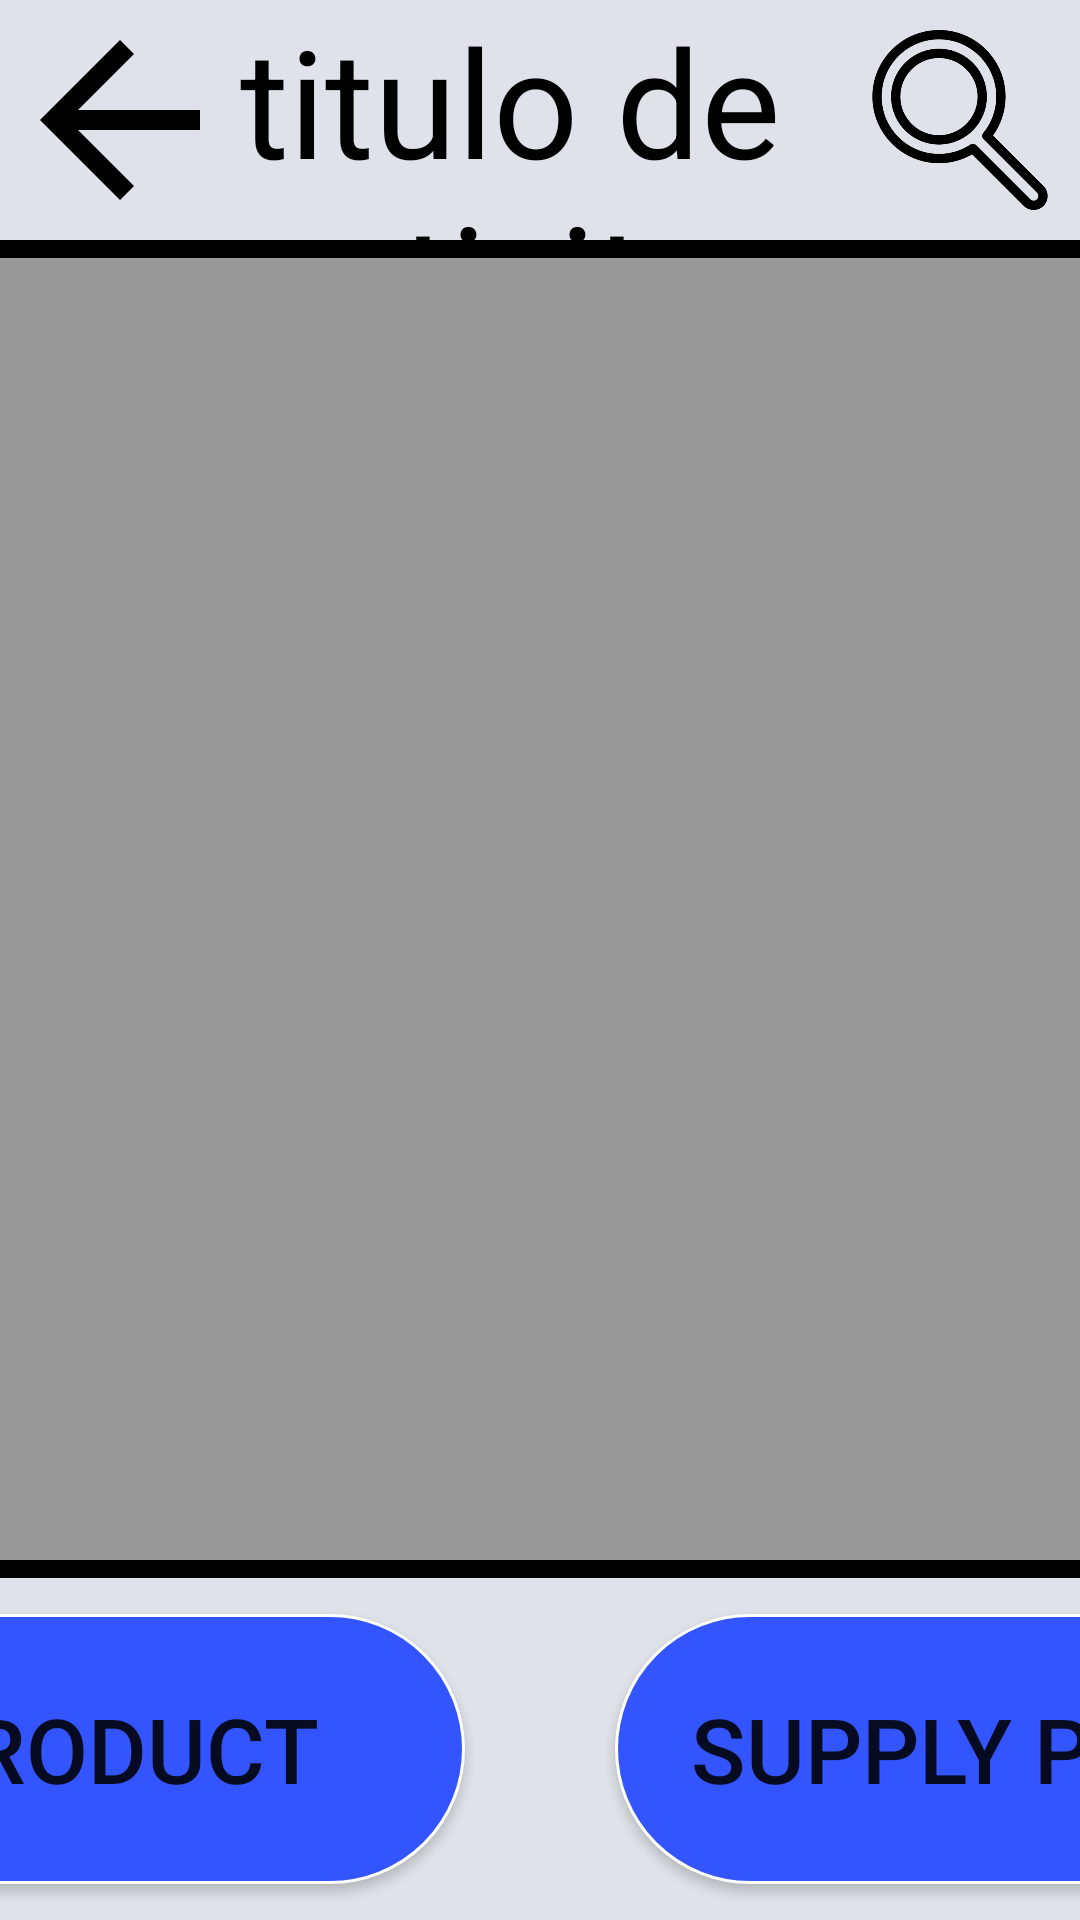

Screen size 1080px×1920px. Icon name, then its center in pixels as (x,y):
buscar: (960,120)
